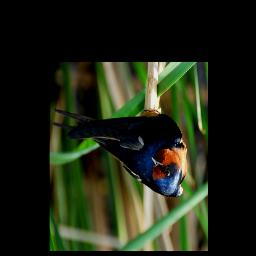Swallow: (52, 107, 189, 200)
